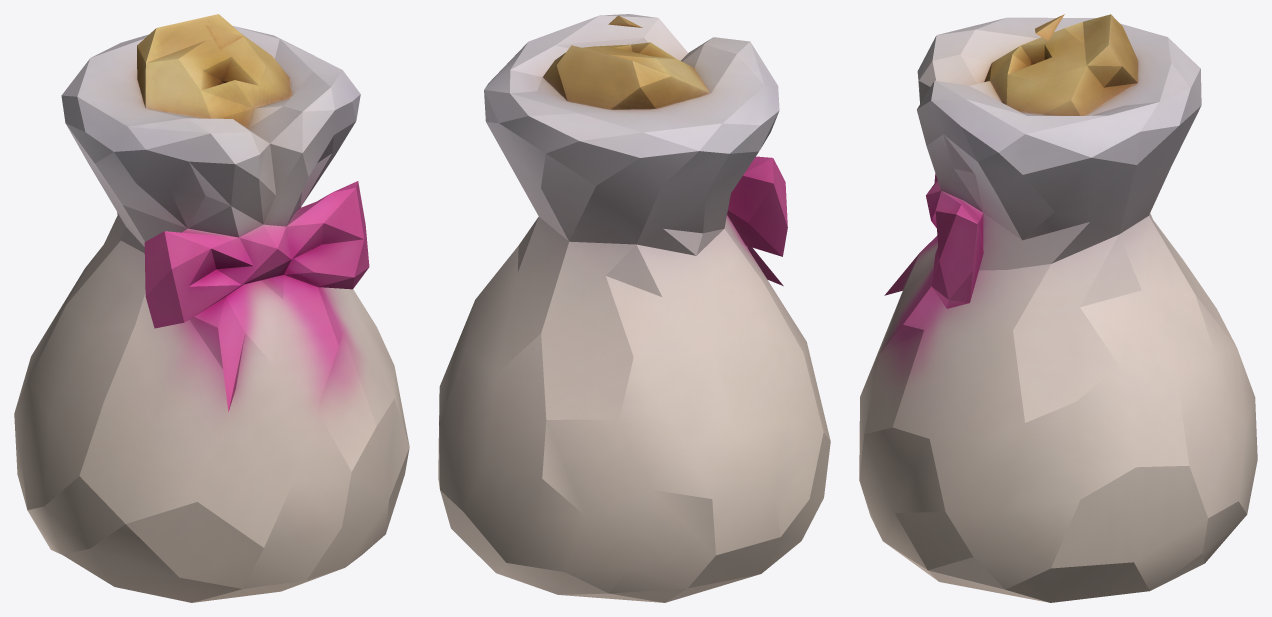
3 renders of one model, left to right at view 1: azimuth 30°, elevation 25°; view 2: azimuth 150°, elevation 25°; view 3: azimuth 270°, elevation 25°, orthographic. The views are drawn at different scales.
Visible parts, largest first — view 1: model; view 2: model; view 3: model.
Boxes of the visible parts, x1,y1,x2,y2 form: model: [14, 14, 409, 602]; model: [438, 14, 830, 602]; model: [859, 14, 1257, 602].
Bounding box in the file's own units: 129 × 186 × 127.
1 material, 1 textured.
